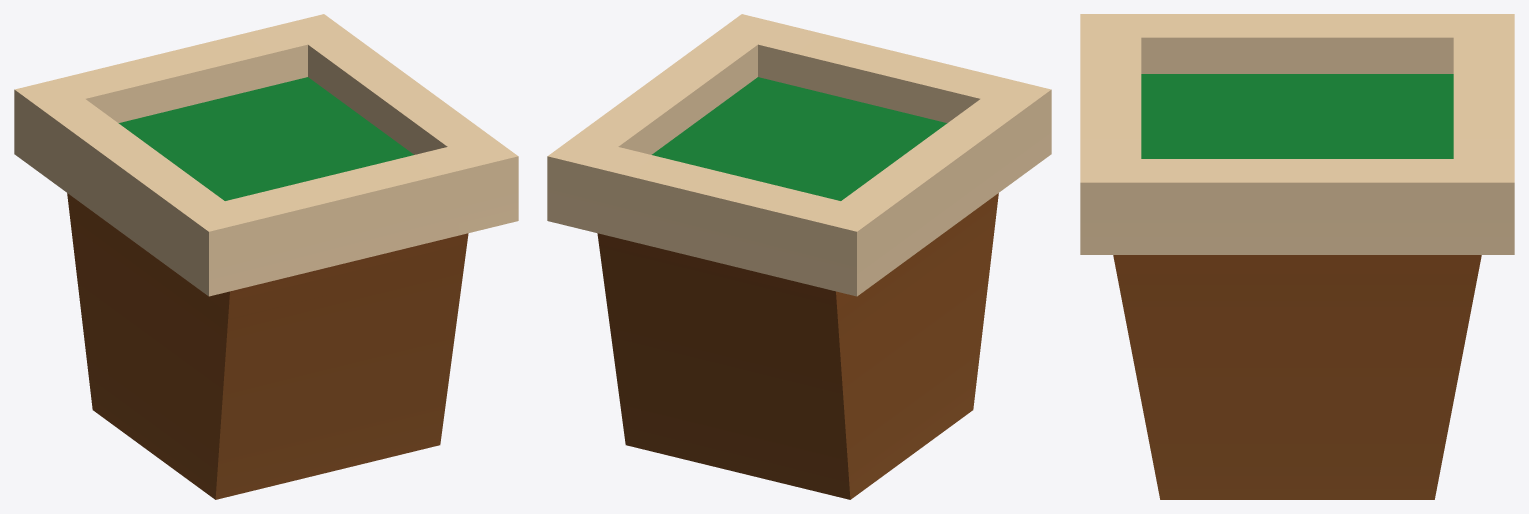
Rendered from FlowerPot_5_3_B.fbx.
The picture shows the model from 3 angles, left to right: view 1: azimuth 30°, elevation 25°; view 2: azimuth 150°, elevation 25°; view 3: azimuth 270°, elevation 25°; orthographic projection. The views are drawn at different scales.
Visible parts, largest first — view 1: FlowerPot_5_3_B; view 2: FlowerPot_5_3_B; view 3: FlowerPot_5_3_B.
Boxes of the visible parts, x1,y1,x2,y2 form: FlowerPot_5_3_B: [14, 14, 518, 499]; FlowerPot_5_3_B: [547, 14, 1051, 499]; FlowerPot_5_3_B: [1080, 14, 1514, 499].
Bounding box in the file's own units: 32.46 × 30.52 × 35.3.
